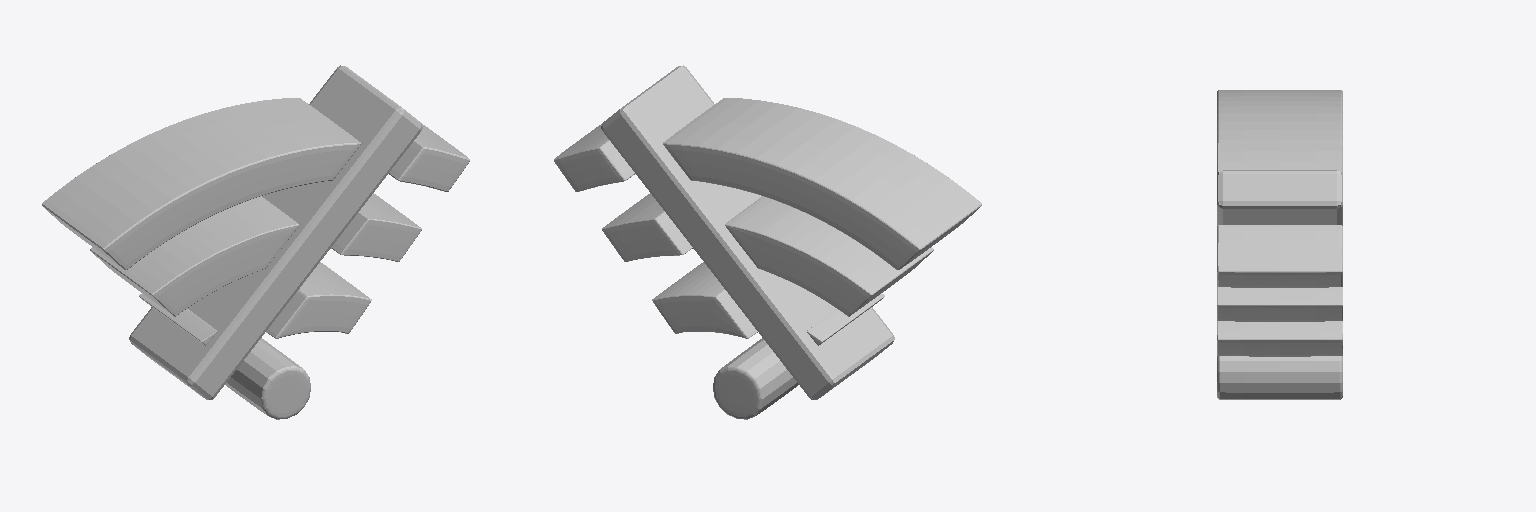
The model's file is noWiFi_GRP.obj.
3 renders of one model, left to right at view 1: azimuth 30°, elevation 25°; view 2: azimuth 150°, elevation 25°; view 3: azimuth 270°, elevation 25°, orthographic.
Parts seen in each view (by area): view 1: topBar_GEO noWiFi_GRP, noWiFi_GRP strikeThrough_GEO, noWiFi_GRP midBar_GEO, noWiFi_GRP btmBar_GEO, noWiFi_GRP dot_GEO; view 2: topBar_GEO noWiFi_GRP, noWiFi_GRP strikeThrough_GEO, noWiFi_GRP midBar_GEO, noWiFi_GRP btmBar_GEO, noWiFi_GRP dot_GEO; view 3: topBar_GEO noWiFi_GRP, noWiFi_GRP strikeThrough_GEO, noWiFi_GRP dot_GEO, noWiFi_GRP btmBar_GEO, noWiFi_GRP midBar_GEO.
Boxes of the visible parts, <box> form: topBar_GEO noWiFi_GRP: <box>42,98,469,269</box>; noWiFi_GRP strikeThrough_GEO: <box>129,65,422,399</box>; noWiFi_GRP midBar_GEO: <box>90,193,421,316</box>; noWiFi_GRP btmBar_GEO: <box>139,262,371,345</box>; noWiFi_GRP dot_GEO: <box>225,338,310,419</box>; topBar_GEO noWiFi_GRP: <box>554,98,981,269</box>; noWiFi_GRP strikeThrough_GEO: <box>601,65,894,399</box>; noWiFi_GRP midBar_GEO: <box>602,193,933,316</box>; noWiFi_GRP btmBar_GEO: <box>652,262,884,345</box>; noWiFi_GRP dot_GEO: <box>713,338,798,419</box>; topBar_GEO noWiFi_GRP: <box>1217,90,1342,287</box>; noWiFi_GRP strikeThrough_GEO: <box>1217,170,1342,225</box>; noWiFi_GRP dot_GEO: <box>1217,356,1342,399</box>; noWiFi_GRP btmBar_GEO: <box>1217,321,1342,356</box>; noWiFi_GRP midBar_GEO: <box>1217,287,1342,321</box>.
Size of the model in its own units: 1.23 by 0.9042 by 0.3671.